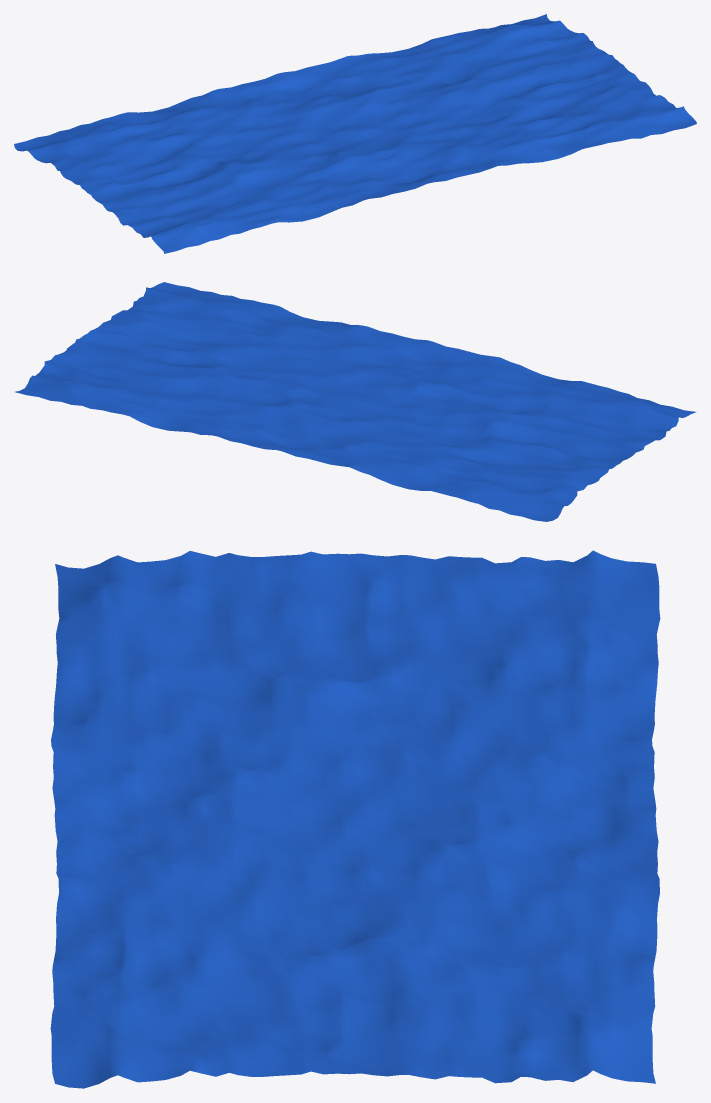
The model's file is water_plane_still.001.obj.
The picture shows the model from 3 angles, top to bottom: view 1: azimuth 30°, elevation 25°; view 2: azimuth 150°, elevation 25°; view 3: azimuth 270°, elevation 25°; orthographic projection. The views are drawn at different scales.
Visible parts, largest first — view 1: water_plane_still.001_Plane.007; view 2: water_plane_still.001_Plane.007; view 3: water_plane_still.001_Plane.007.
Part boxes in pixels (x1,y1,x2,y2): water_plane_still.001_Plane.007: (14, 14, 696, 253); water_plane_still.001_Plane.007: (15, 282, 696, 521); water_plane_still.001_Plane.007: (50, 550, 660, 1088).
Size of the model in its own units: 20.51 by 0.4281 by 9.99.
